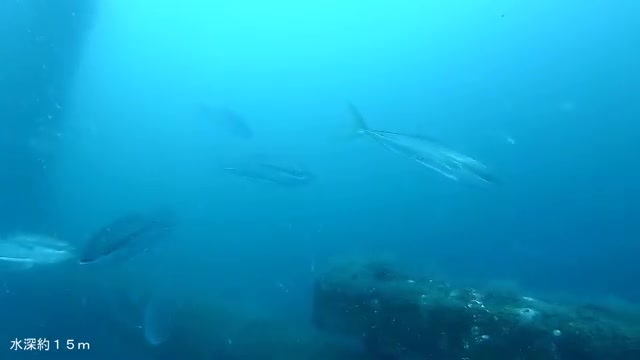smallfish: (358, 112, 508, 195)
